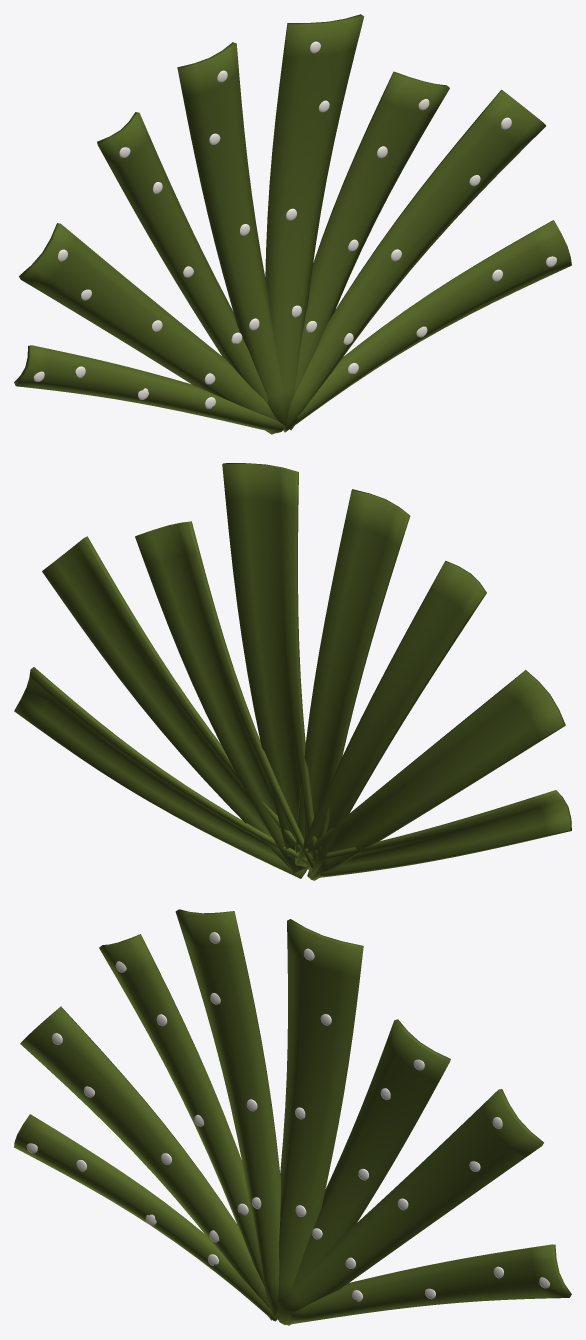
The model's file is 04_dotted_foliage.glb.
The picture shows the model from 3 angles, top to bottom: view 1: azimuth 30°, elevation 25°; view 2: azimuth 150°, elevation 25°; view 3: azimuth 330°, elevation 25°; orthographic projection.
Visible parts, largest first — view 1: Curved broad leaf.004, Curved broad leaf.003, Curved broad leaf.006, Curved broad leaf.001, Curved broad leaf.005, Curved broad leaf.002, Curved broad leaf.007, Curved broad leaf; view 2: Curved broad leaf.004, Curved broad leaf.003, Curved broad leaf.005, Curved broad leaf.006, Curved broad leaf.001, Curved broad leaf.002, Curved broad leaf.007, Curved broad leaf; view 3: Curved broad leaf.004, Curved broad leaf.003, Curved broad leaf.006, Curved broad leaf.001, Curved broad leaf.005, Curved broad leaf.002, Curved broad leaf.007, Curved broad leaf.
Part boxes in pixels (x1,y1,x2,y2): Curved broad leaf.004: (265, 14, 364, 411); Curved broad leaf.003: (177, 42, 288, 428); Curved broad leaf.006: (286, 89, 545, 430); Curved broad leaf.001: (19, 223, 278, 434); Curved broad leaf.005: (293, 71, 449, 395); Curved broad leaf.002: (97, 112, 267, 402); Curved broad leaf.007: (283, 220, 571, 432); Curved broad leaf: (14, 345, 285, 432); Curved broad leaf.004: (222, 463, 318, 871); Curved broad leaf.003: (295, 489, 410, 863); Curved broad leaf.005: (135, 521, 314, 872); Curved broad leaf.006: (42, 536, 300, 868); Curved broad leaf.001: (302, 670, 565, 880); Curved broad leaf.002: (295, 560, 486, 876); Curved broad leaf.007: (14, 667, 307, 878); Curved broad leaf: (302, 790, 571, 878); Curved broad leaf.004: (278, 919, 363, 1303); Curved broad leaf.003: (175, 909, 280, 1316); Curved broad leaf.006: (275, 1089, 543, 1325); Curved broad leaf.001: (20, 1006, 271, 1320); Curved broad leaf.005: (290, 1019, 450, 1291); Curved broad leaf.002: (99, 934, 264, 1286); Curved broad leaf.007: (278, 1244, 571, 1325); Curved broad leaf: (14, 1114, 277, 1321).
Size of the model in its own units: 4.52 by 3.16 by 0.2487.
